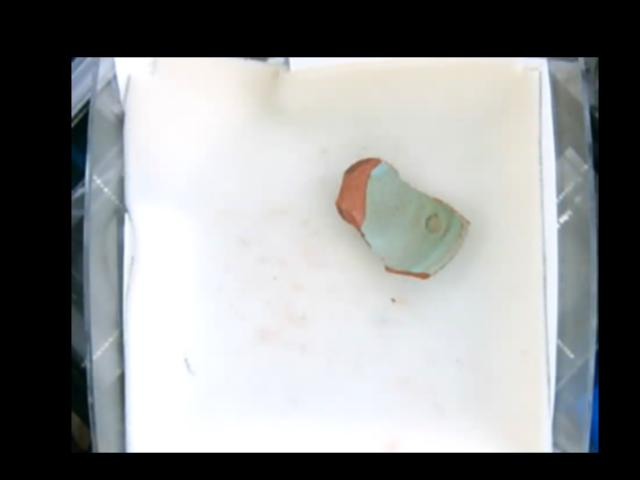China: (335, 156, 470, 278)
